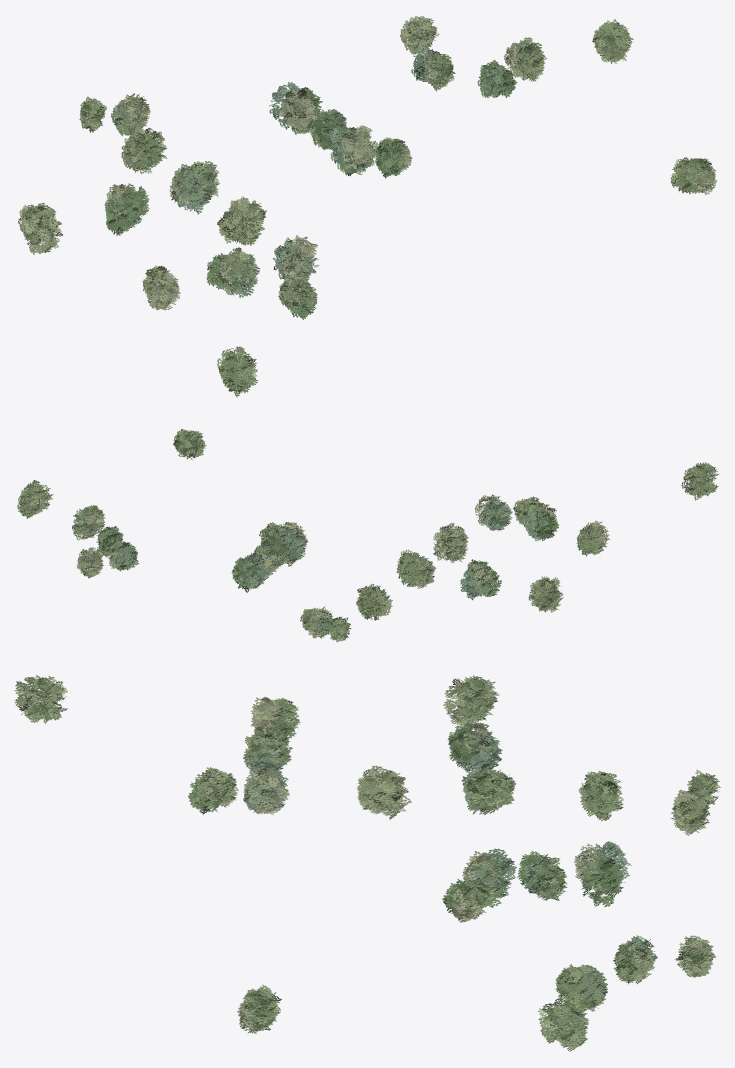
Rendered from campus-tree-3_-1-near.glb.
3 views of the same model, one above another, from view 1: azimuth 30°, elevation 25°; view 2: azimuth 150°, elevation 25°; view 3: azimuth 270°, elevation 25° (orthographic). The views are drawn at different scales.
Visible parts, largest first — view 1: Campus leaf canopy; view 2: Campus leaf canopy; view 3: Campus leaf canopy.
Part boxes in pixels (x1=…): Campus leaf canopy: x1=18, y1=16, x2=716, y2=397; Campus leaf canopy: x1=17, y1=429, x2=719, y2=642; Campus leaf canopy: x1=14, y1=674, x2=720, y2=1051.
Size of the model in its own units: 82.55 by 7.95 by 70.93.
1 material, 1 textured.
